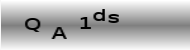1: (78, 15, 90, 30)
A: (50, 25, 68, 40)
Q: (22, 17, 40, 33)
d: (92, 8, 107, 22)
s: (106, 13, 120, 24)
